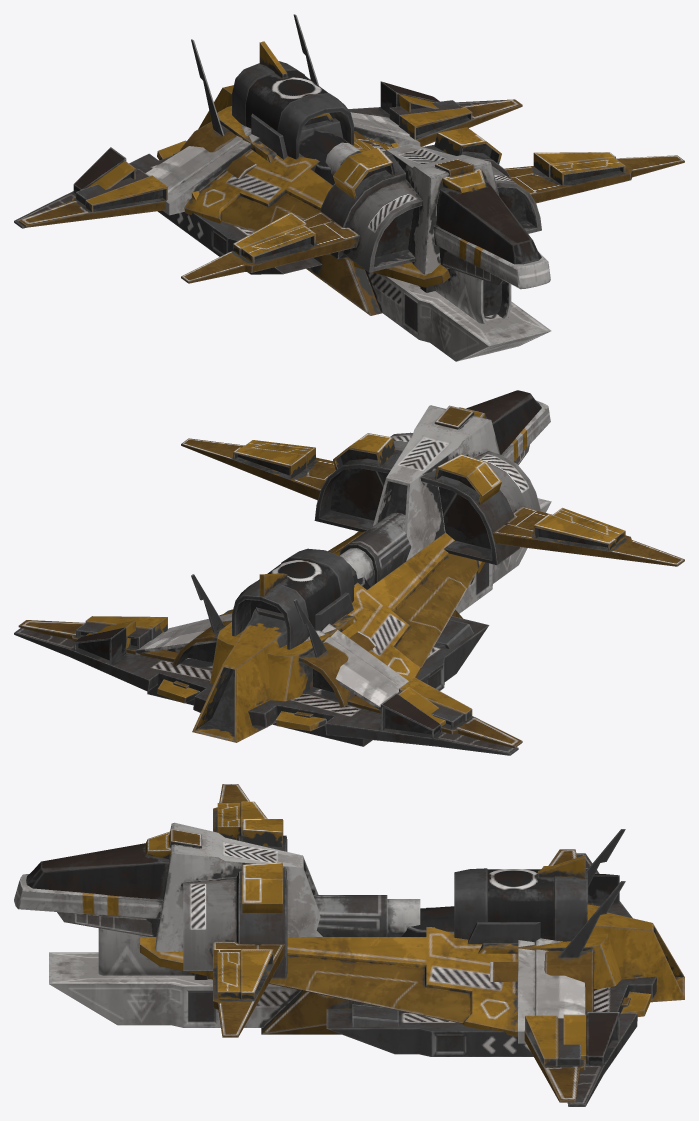
File: UltimateSpaceshipsShowcase.glb
The picture shows the model from 3 angles, top to bottom: view 1: azimuth 30°, elevation 25°; view 2: azimuth 150°, elevation 25°; view 3: azimuth 270°, elevation 25°; orthographic projection. The views are drawn at different scales.
Visible parts, largest first — view 1: Bob, Omen, Challenger; view 2: Omen, Bob, Challenger; view 3: Omen, Bob, Challenger.
Part boxes in pixels (left/top/right/bottom): Bob: left=181, top=127, right=684, bottom=289; Omen: left=14, top=41, right=511, bottom=323; Challenger: left=18, top=14, right=551, bottom=361; Omen: left=14, top=513, right=518, bottom=755; Bob: left=181, top=390, right=684, bottom=566; Challenger: left=18, top=498, right=551, bottom=748; Omen: left=98, top=853, right=684, bottom=1106; Bob: left=14, top=784, right=322, bottom=1037; Challenger: left=49, top=829, right=625, bottom=1102.
Bounding box in the file's own units: 4 × 1.3 × 4.51.
Materials: 3 (3 with a texture image).
